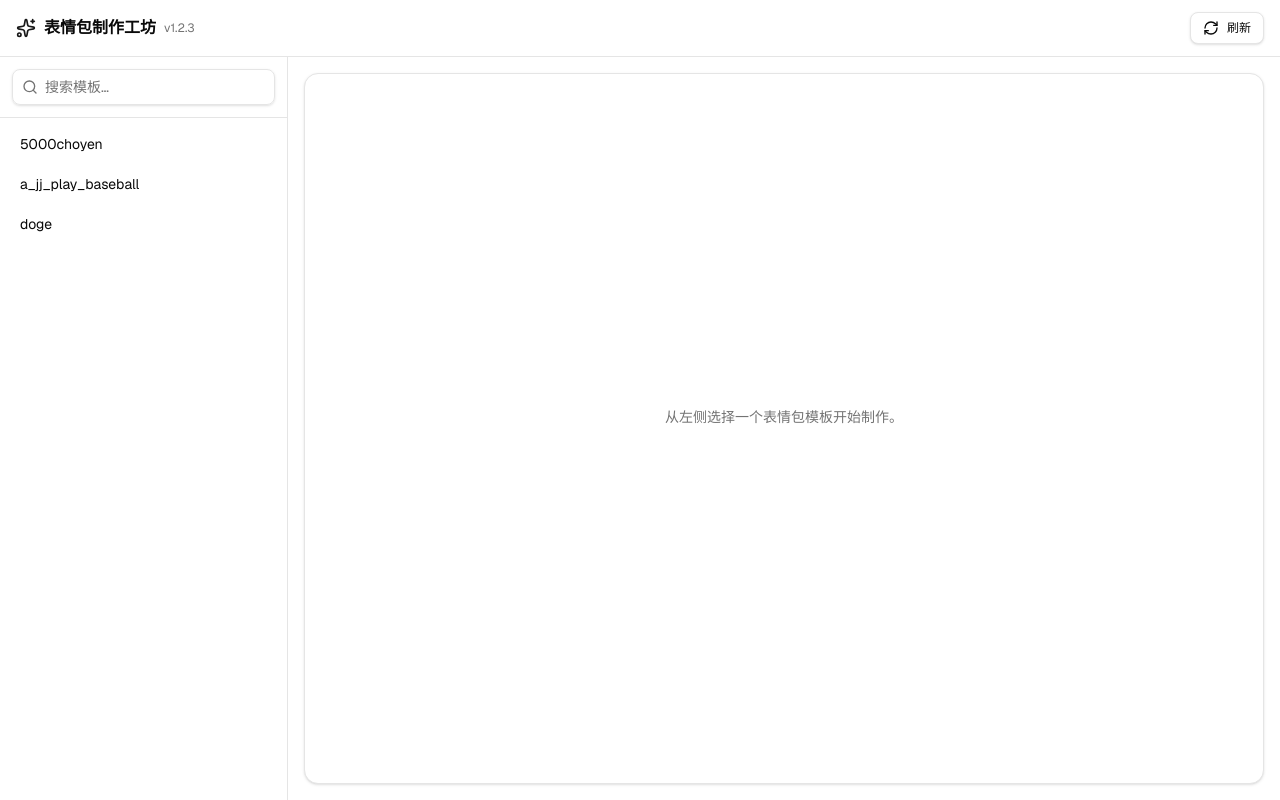
Test case: MemeStudio integration › shows a validation error on a 422 response
The image size is (1280, 800).
What coordinates should you click on to do the following:
click the button "doge"
I would click on:
 (36, 224)
Its box is 8,206 -> 279,242.
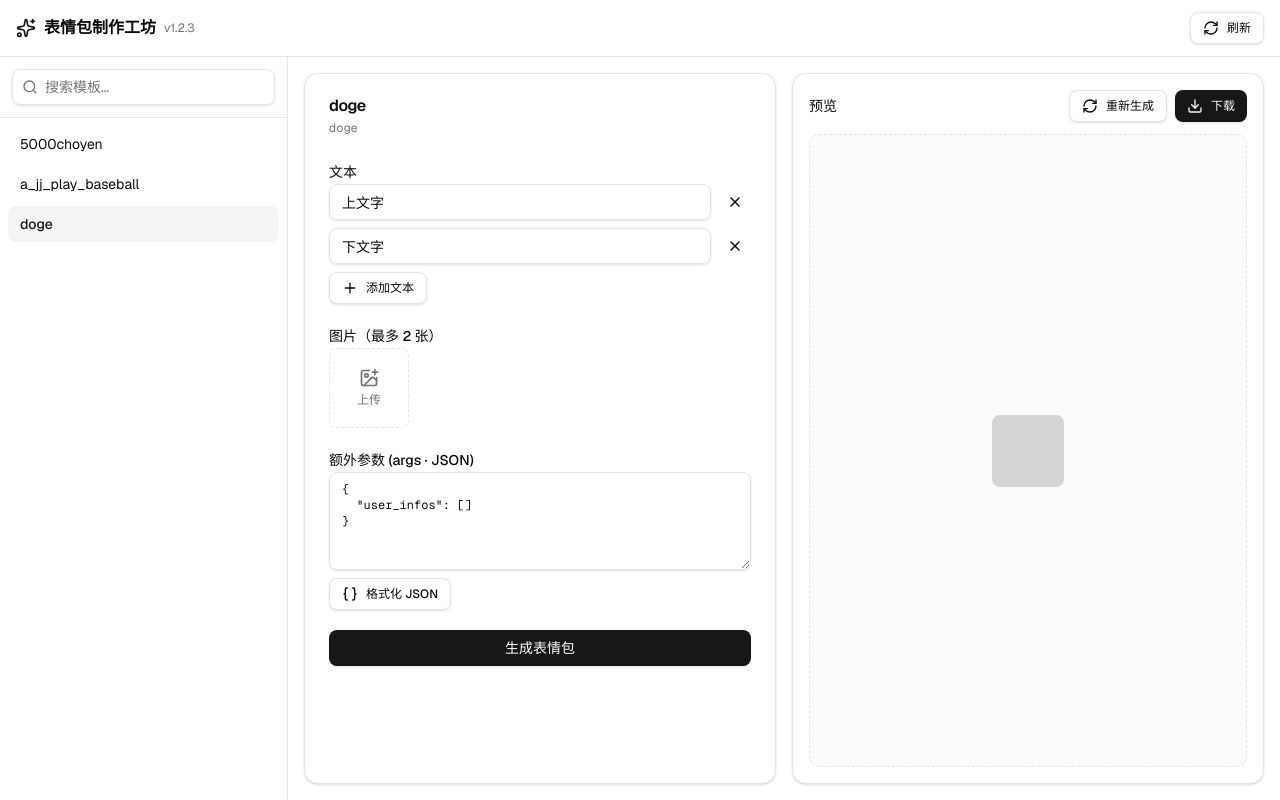
Check: the field named "文本 1" holds "上文字", box 329,184 -> 711,220
What coordinates should you click on to do the following:
click the button "生成表情包"
I would click on:
 (540, 648)
Its box is 329,630 -> 751,666.
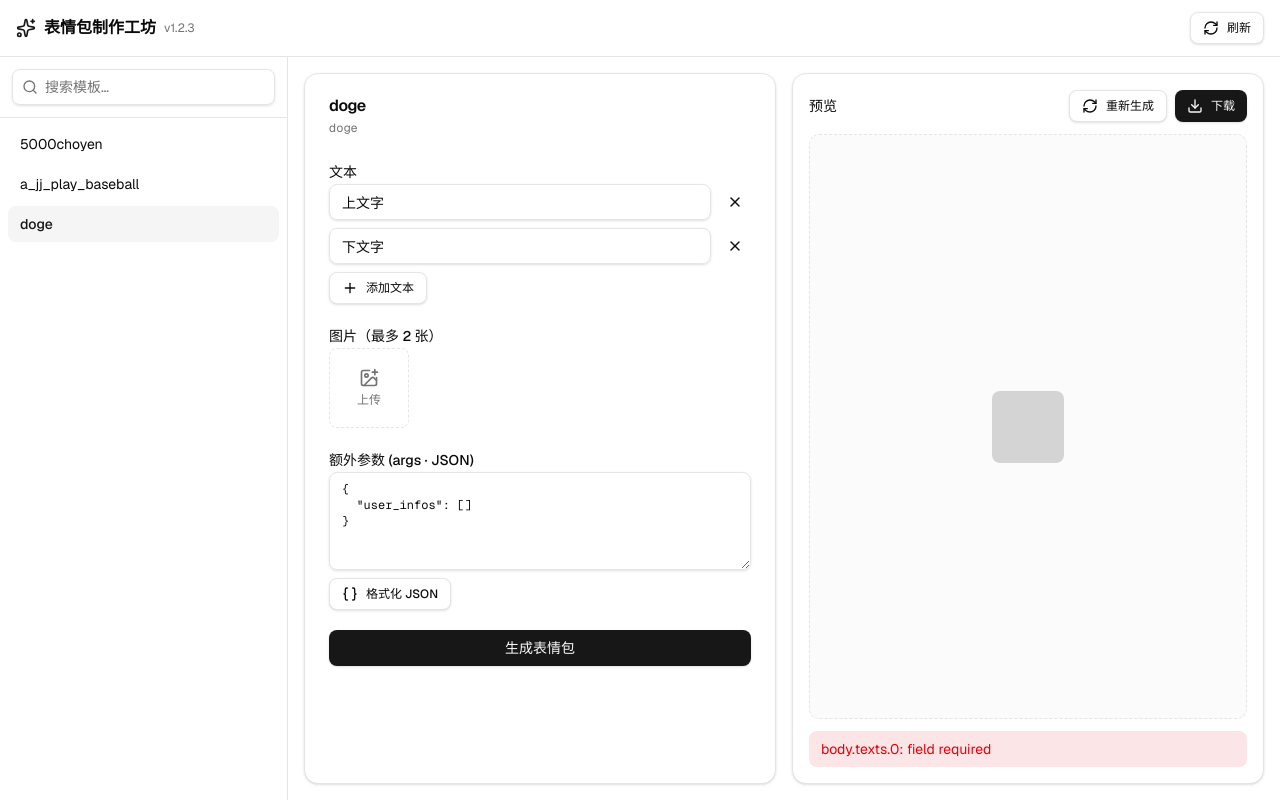
Check: the text "body.texts.0: field required" is shown, box 809,731 -> 1247,767
